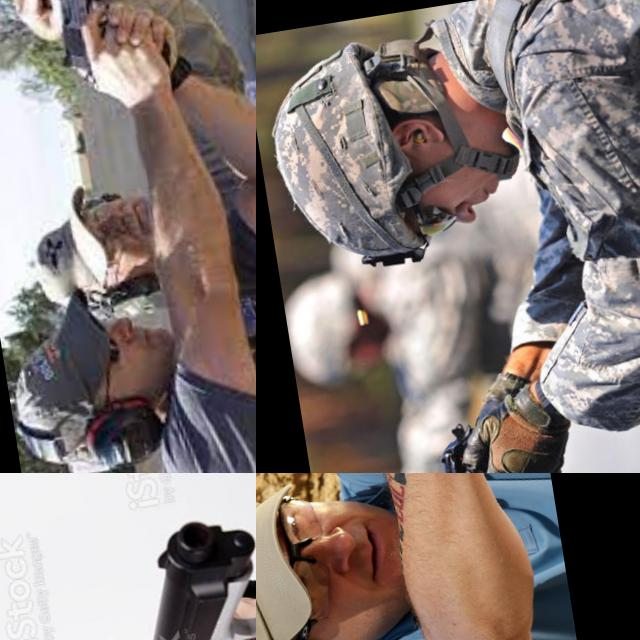handgun: (105, 504, 256, 640), (256, 473, 346, 598), (37, 0, 122, 89), (425, 412, 524, 473)
